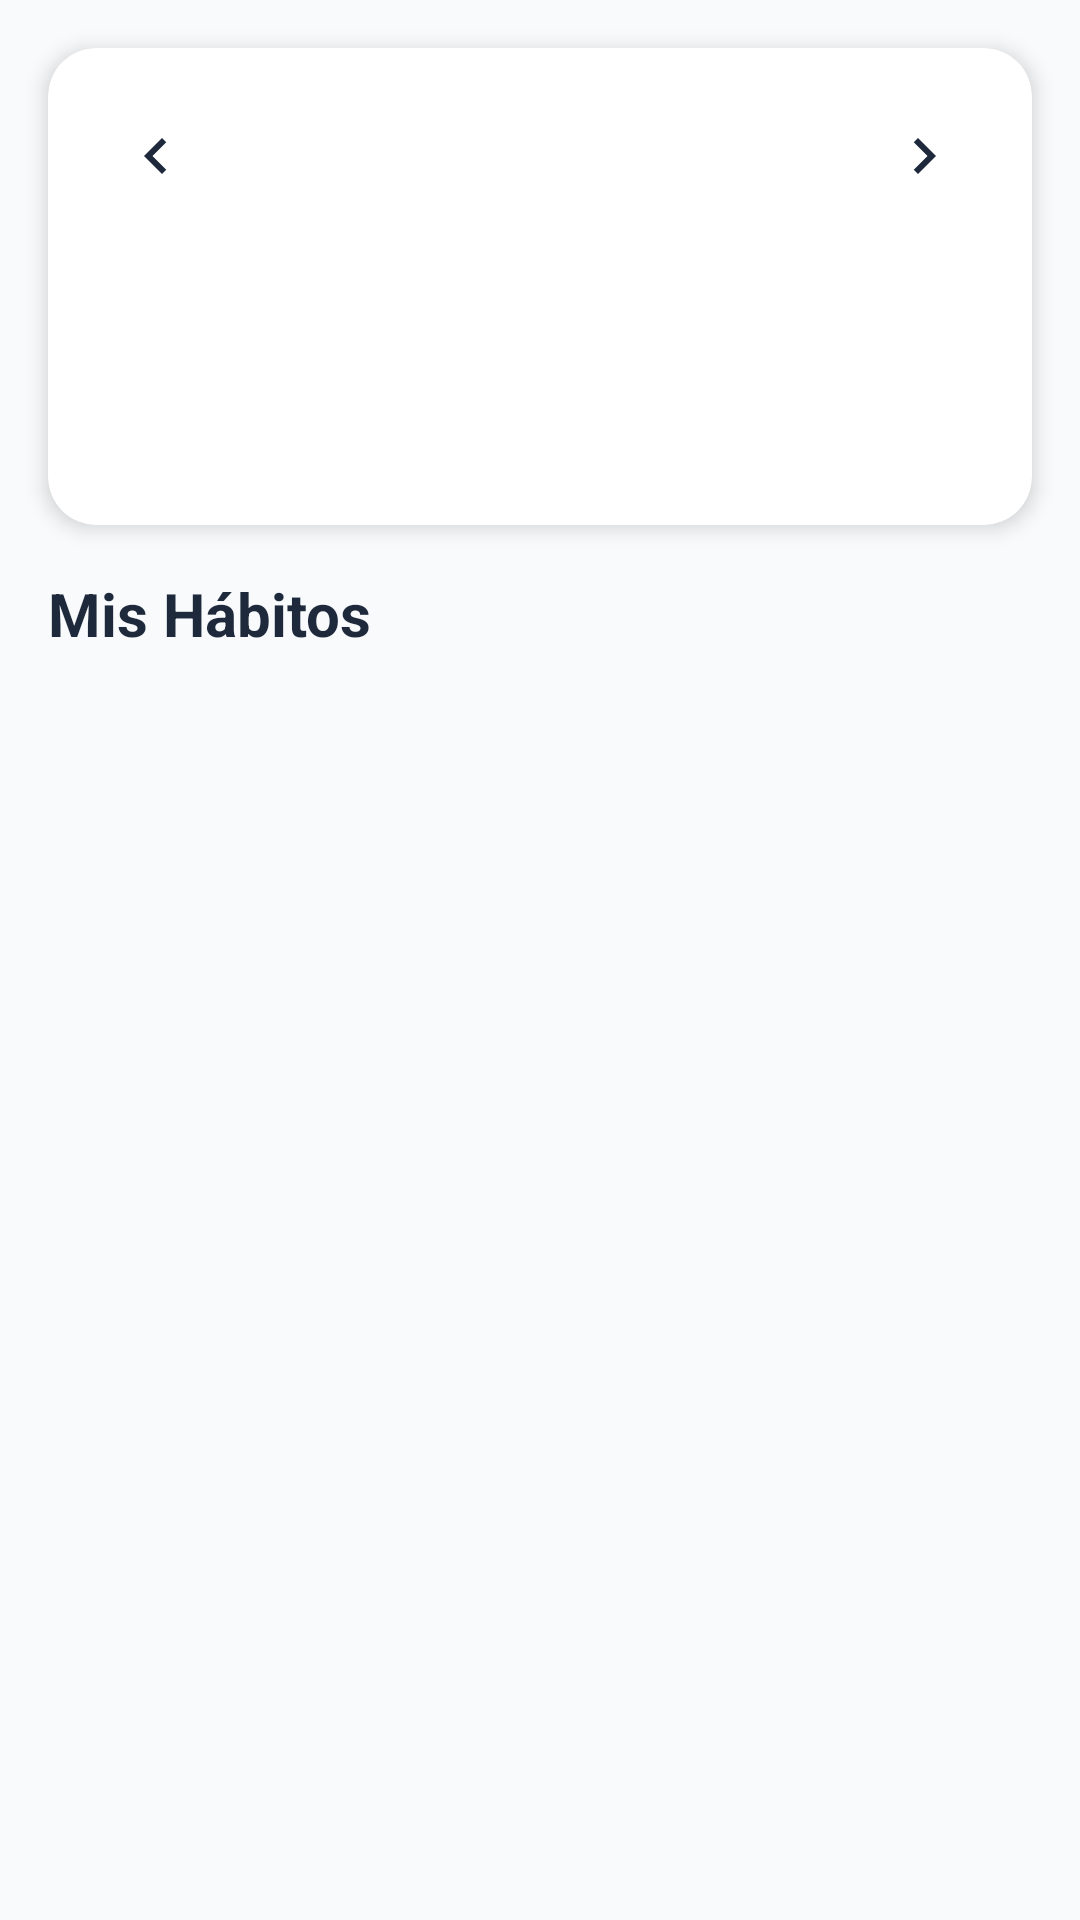

Screen size 1080px x 1920px. Icon name, then its box in pixels as [x1,y1,x2,y2]:
Semana anterior: [144,138,166,174]
Semana siguiente: [914,138,936,174]
